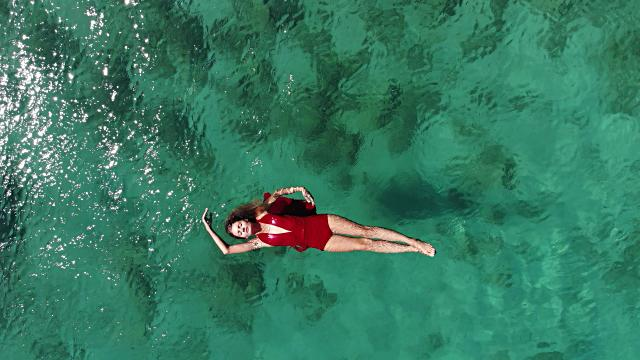swimmer: (202, 183, 438, 259)
